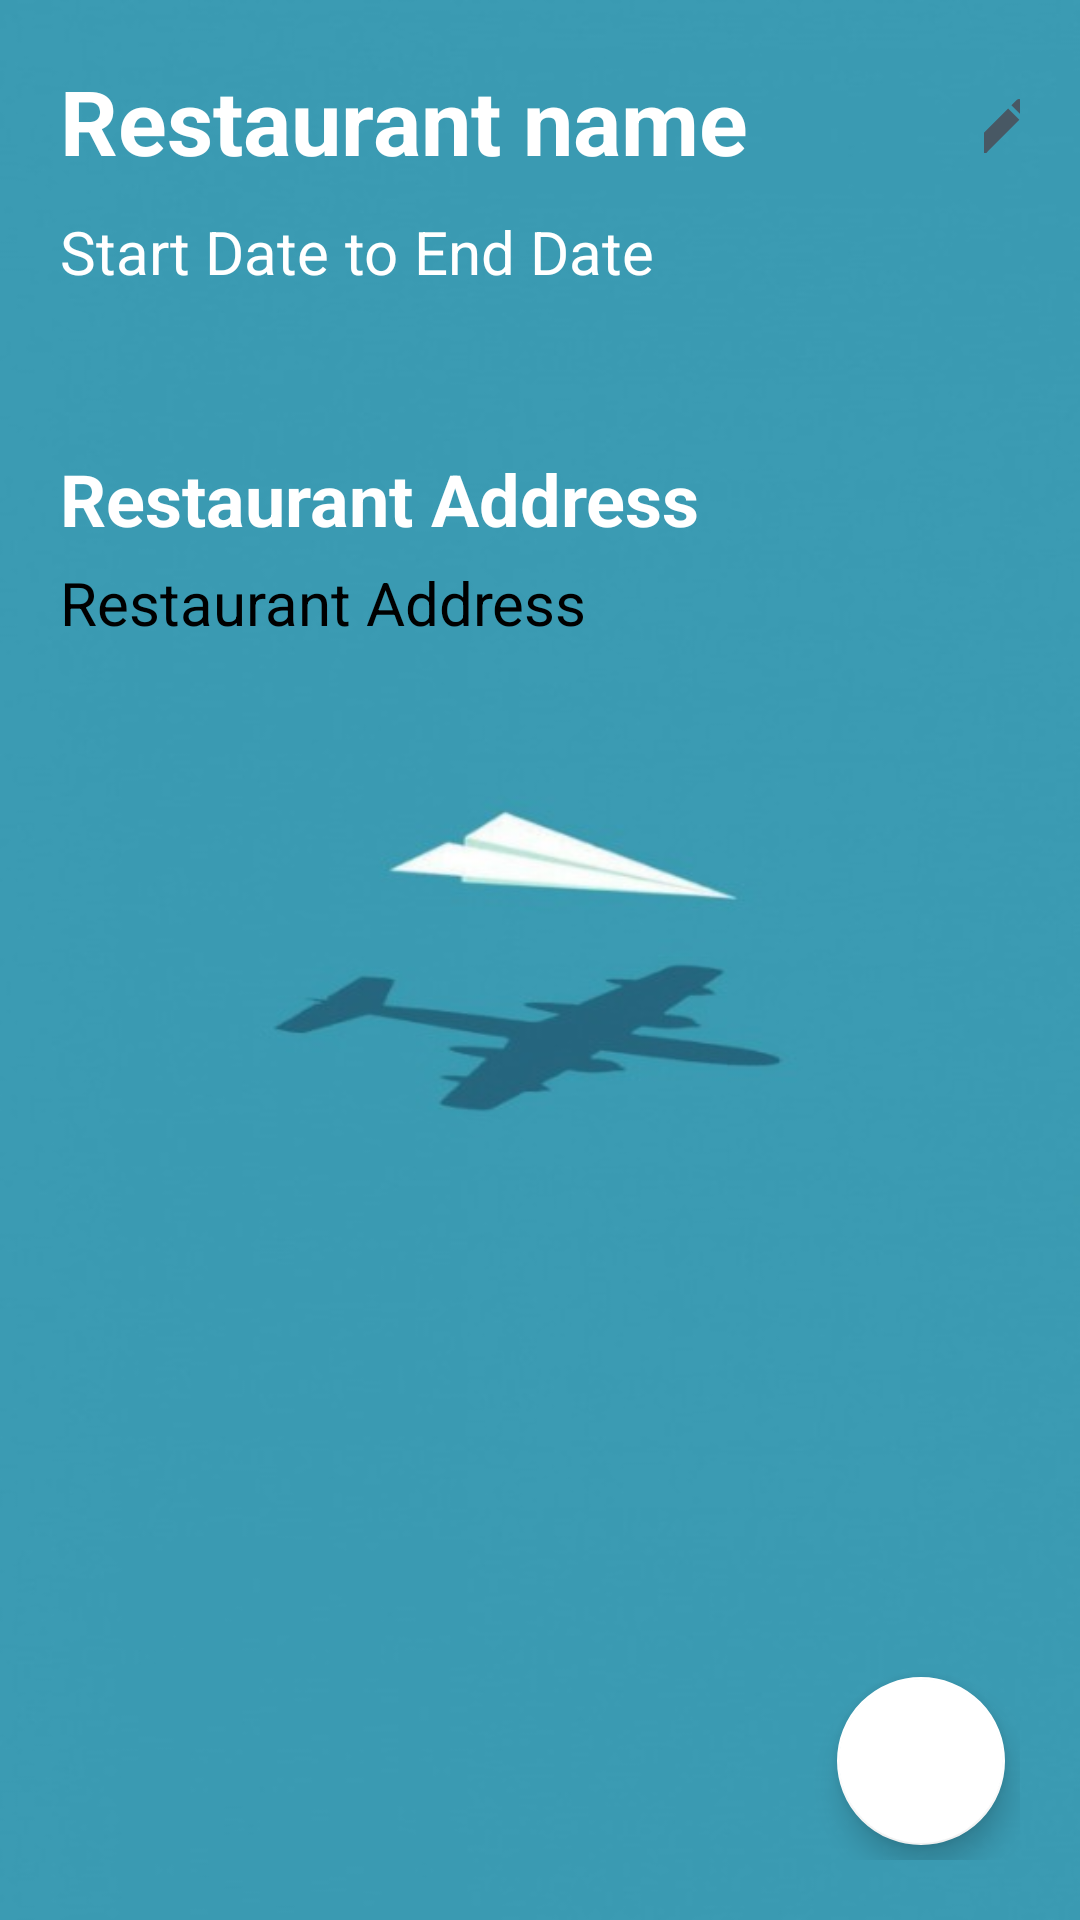

Screen size 1080x1920. Icon name, then its center in pixels as point (x, y):
edit: point (1002, 126)
